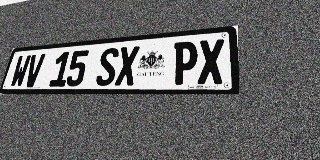1: (49, 51, 72, 87)
5: (65, 50, 89, 86)
P: (172, 41, 198, 85)
S: (95, 47, 120, 86)
V: (23, 54, 46, 87)
W: (9, 55, 31, 87)
X: (197, 39, 224, 84), (114, 46, 140, 86)
